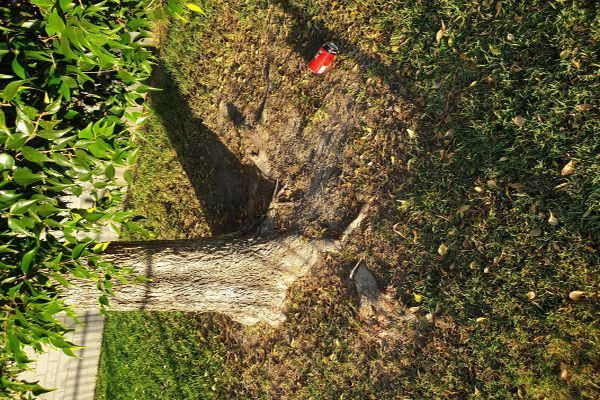Plastic Bottle: (307, 41, 341, 76)
